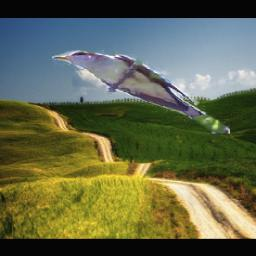Cuckoo: (52, 51, 230, 134)
